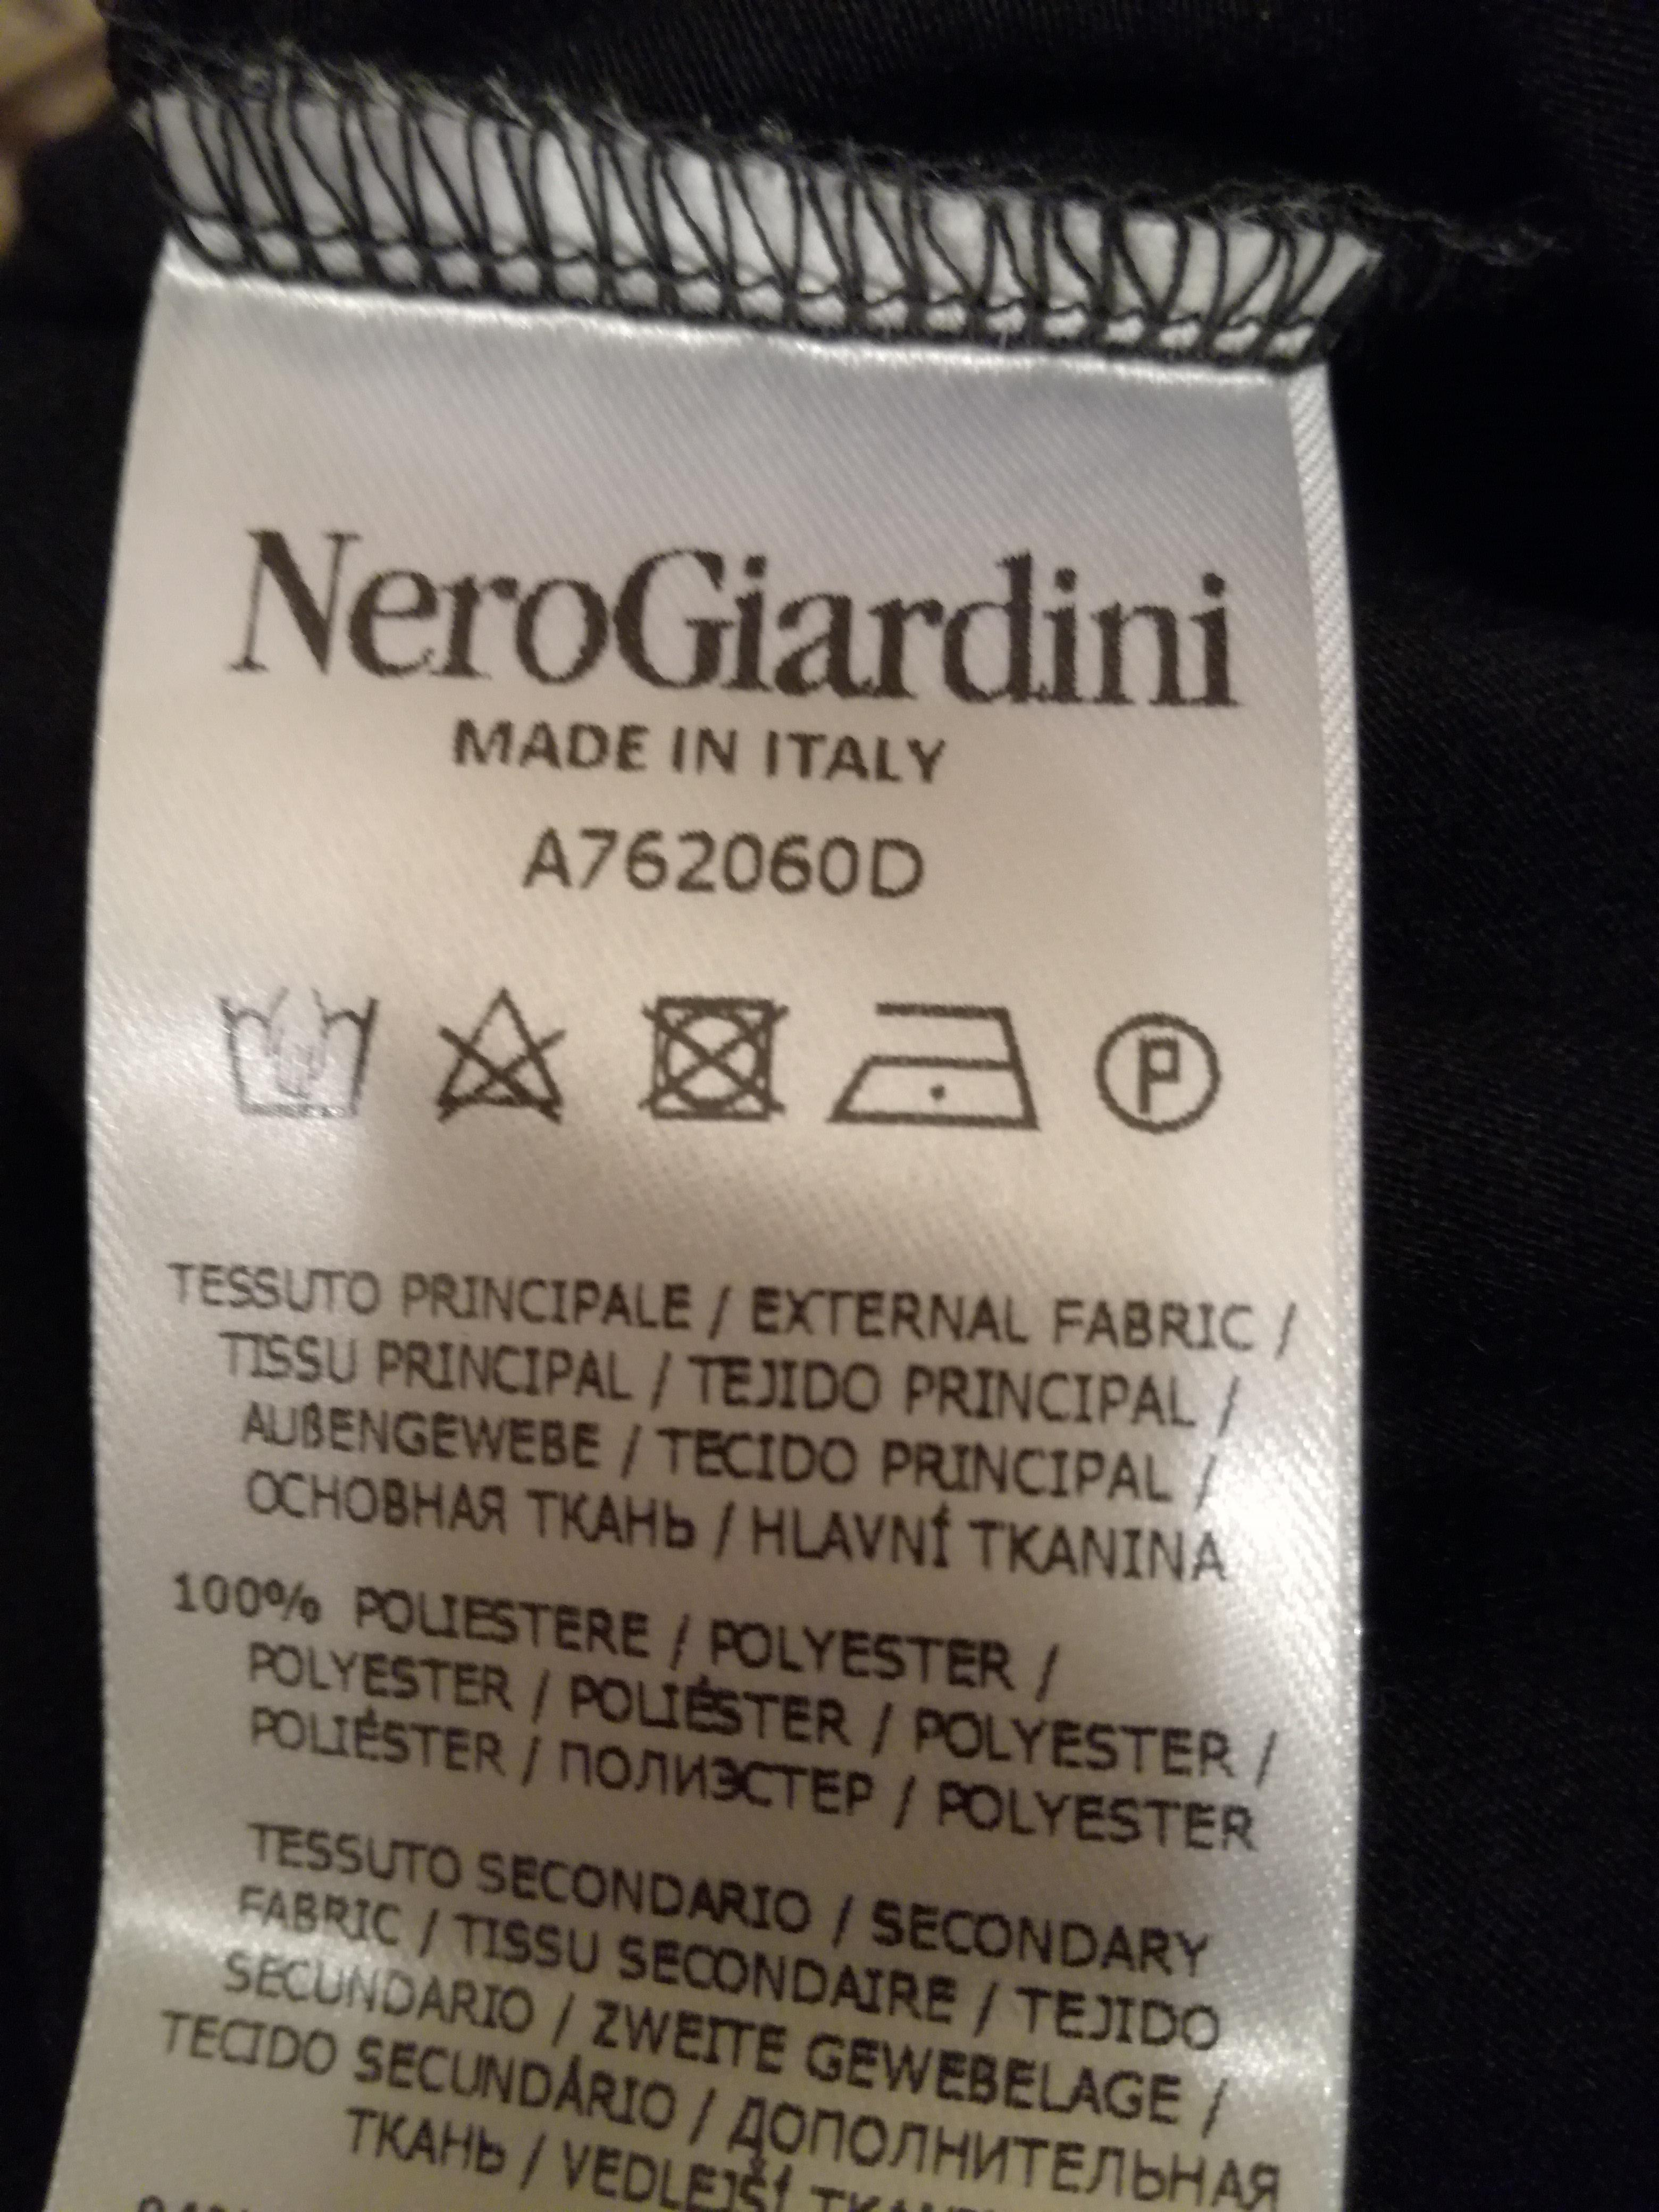DN_bleach: (425, 974, 580, 1132)
DN_tumble_dry: (633, 984, 800, 1137)
dry_clean_any_solvent_except_trichloroethylene: (1086, 993, 1229, 1144)
hand_wash: (204, 970, 404, 1122)
iron_low: (829, 993, 1040, 1137)
